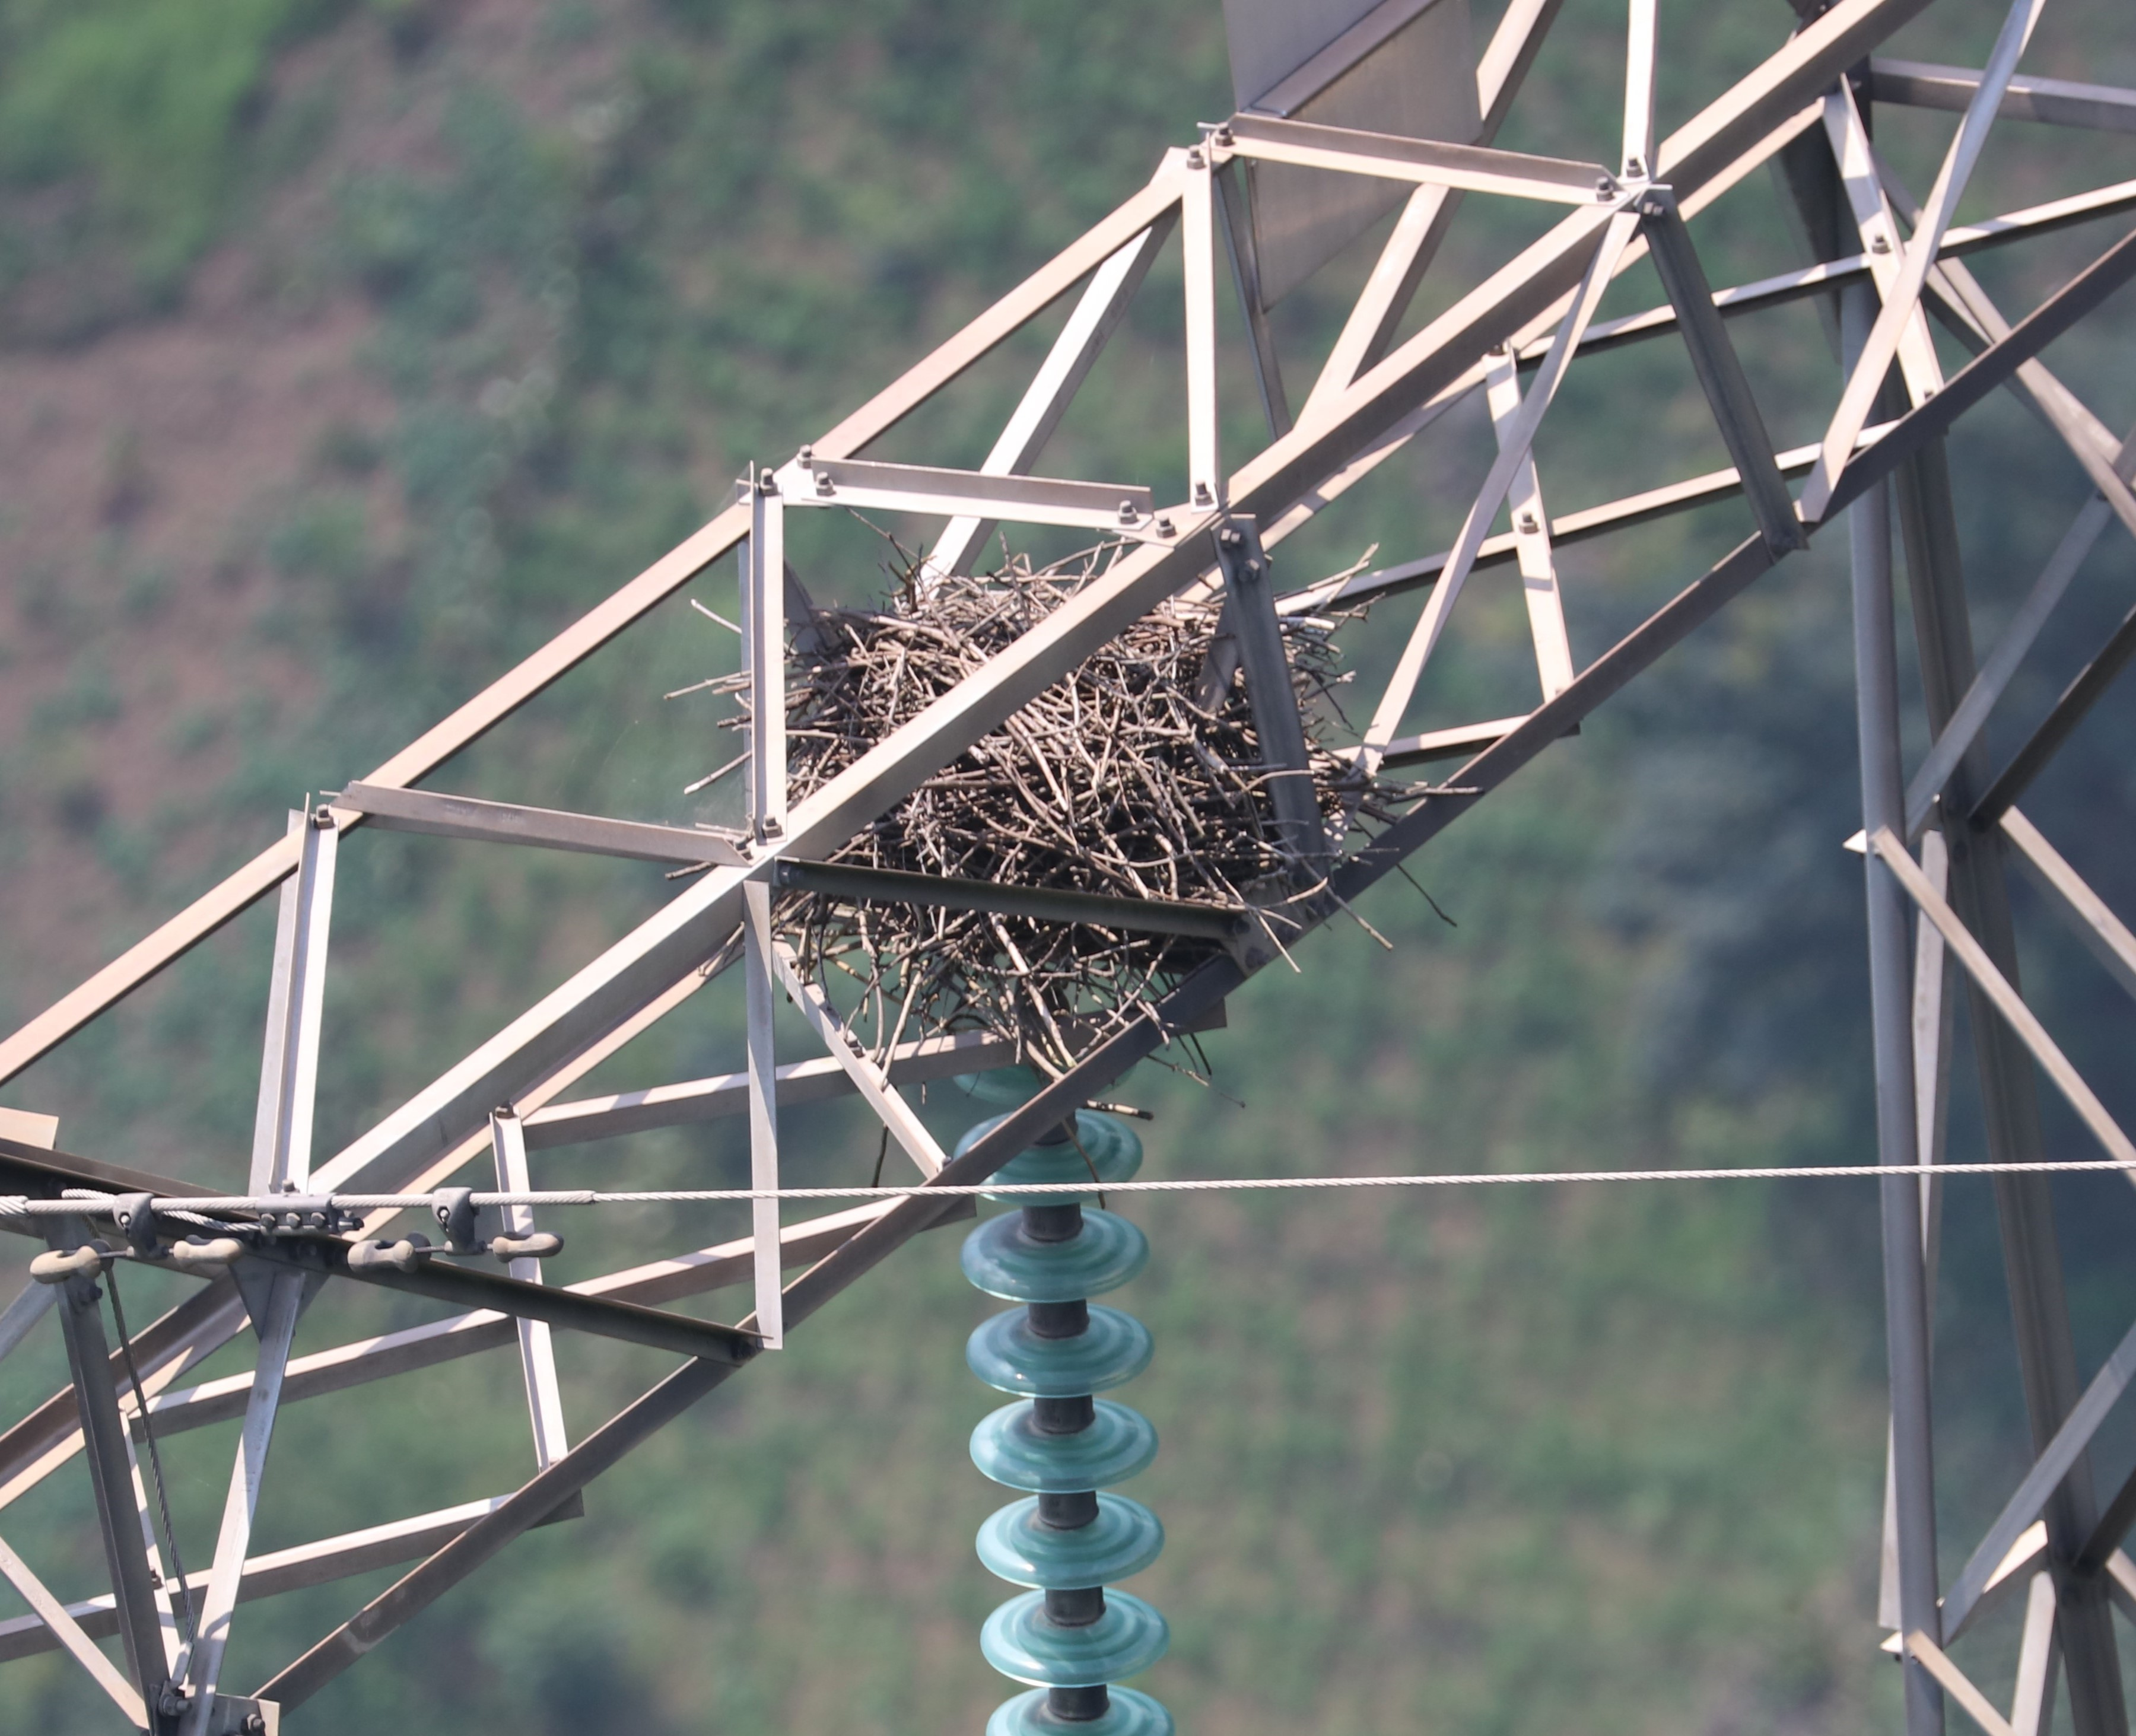niaowo: (742, 535, 1383, 1068)
